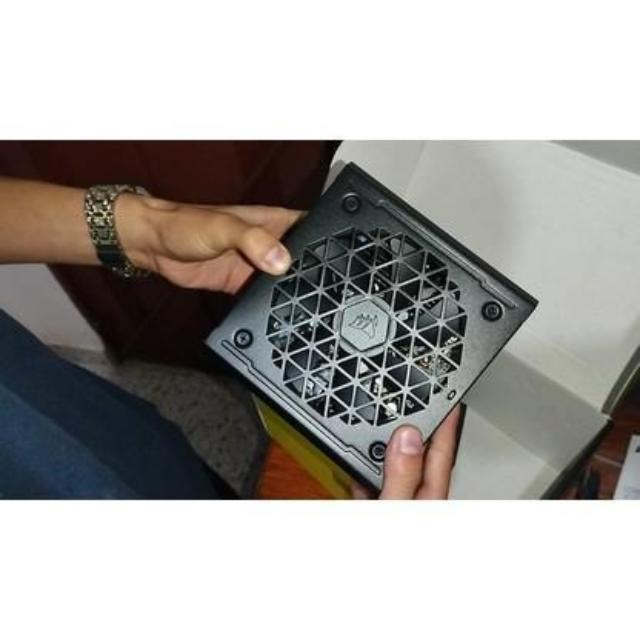PSU: (194, 145, 549, 510)
